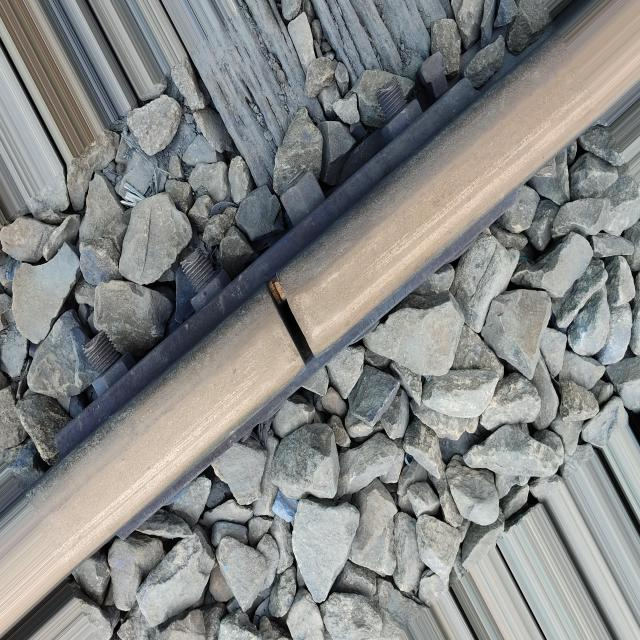crack: (244, 267, 329, 376)
